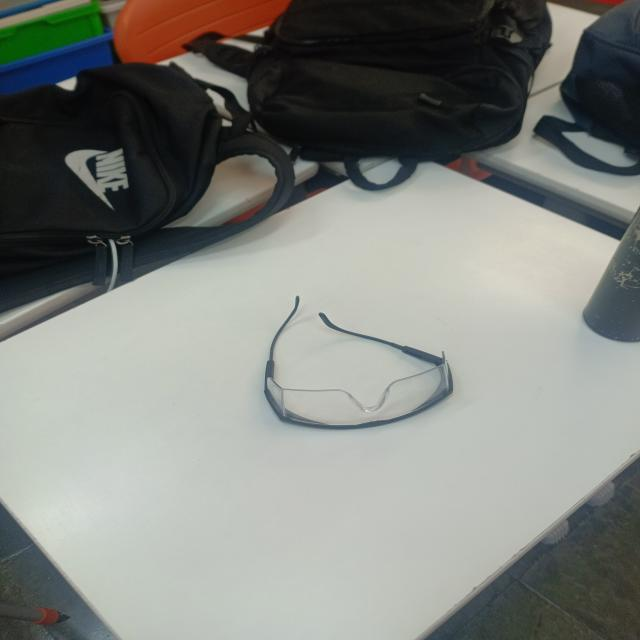oculos-epi: (248, 345, 472, 442)
